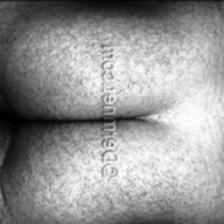Non-Cancerous Skin Condition: (124, 6, 222, 216), (19, 0, 98, 222)
